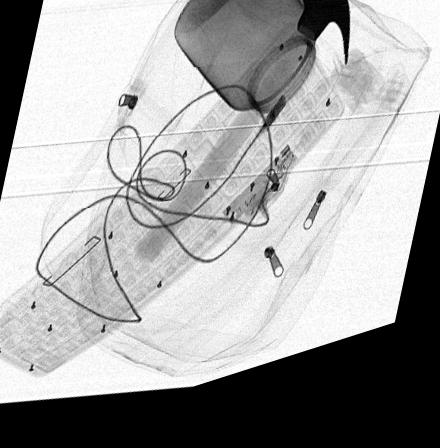Hammer: (133, 0, 350, 273)
